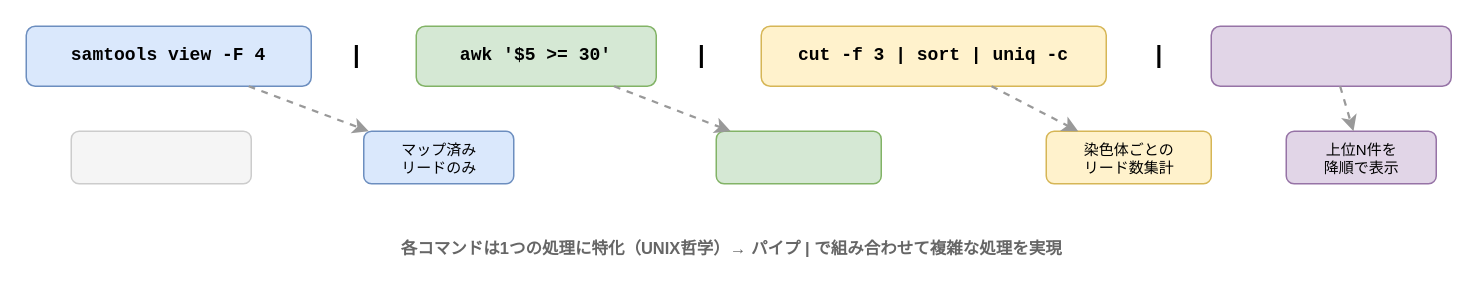
Image size: 1478x293. Some labels were removed from this diagram. Each missing label, with the centre of its shape:
BAMファイル （全リード）: point 160,157
MAPQ ≥ 30の 高品質リード: point 798,157
sort -rn | head: point 1330,55
